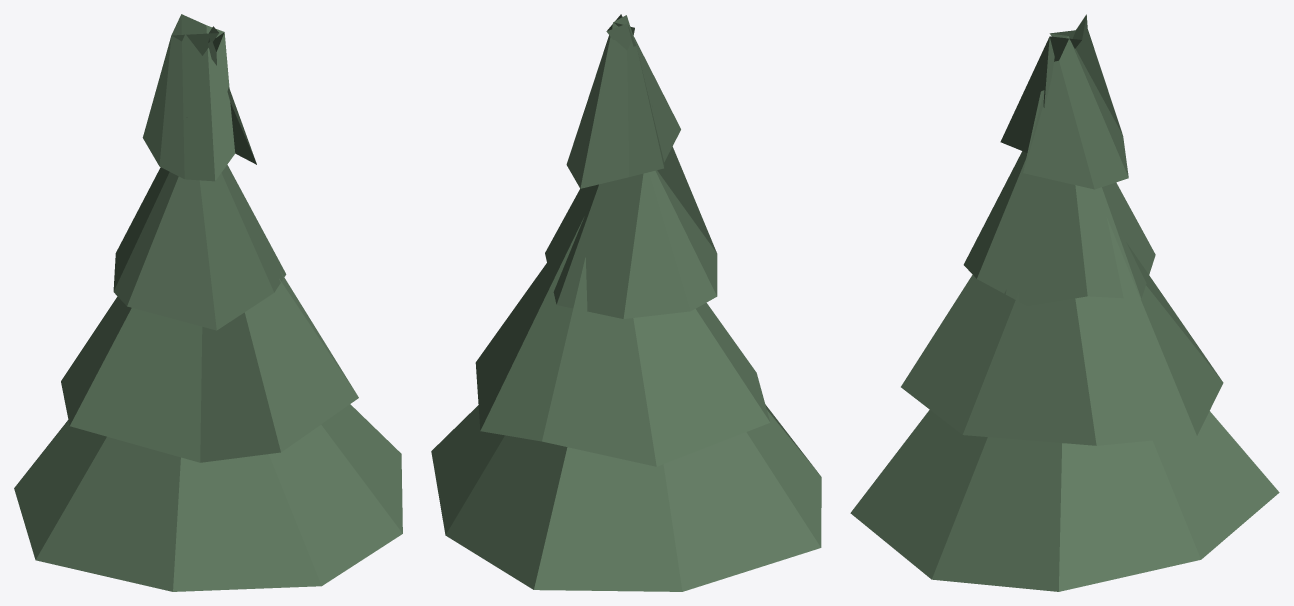
Rendered from tree_pine_b.glb.
3 views of the same model, side by side, from view 1: azimuth 30°, elevation 25°; view 2: azimuth 150°, elevation 25°; view 3: azimuth 270°, elevation 25° (orthographic). The views are drawn at different scales.
Parts seen in each view (by area): view 1: tree_pine_b; view 2: tree_pine_b; view 3: tree_pine_b.
Part boxes in pixels (x1,y1,x2,y2): tree_pine_b: [14, 14, 402, 591]; tree_pine_b: [431, 14, 821, 591]; tree_pine_b: [850, 14, 1279, 591].
Bounding box in the file's own units: 8.15 × 10.37 × 8.14.
